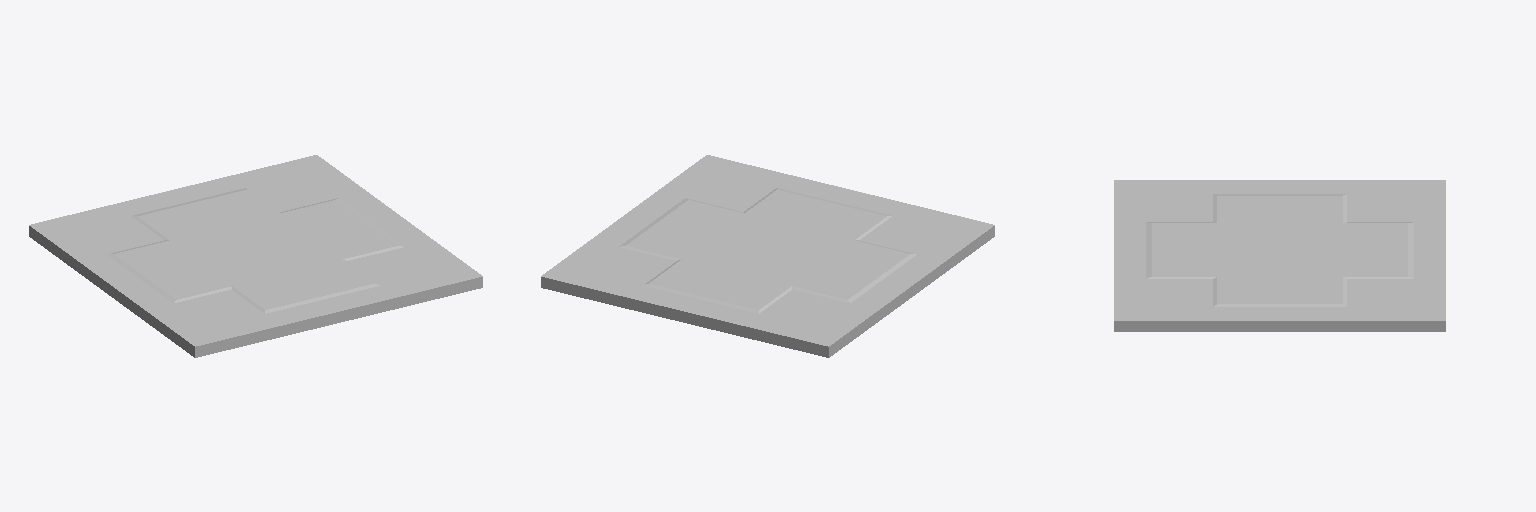
The model's file is Floor_Medbay.obj.
3 views of the same model, side by side, from view 1: azimuth 30°, elevation 25°; view 2: azimuth 150°, elevation 25°; view 3: azimuth 270°, elevation 25° (orthographic).
Parts seen in each view (by area): view 1: Floor_Medbay; view 2: Floor_Medbay; view 3: Floor_Medbay.
Boxes of the visible parts, x1,y1,x2,y2 form: Floor_Medbay: [29, 155, 482, 357]; Floor_Medbay: [541, 155, 994, 357]; Floor_Medbay: [1114, 180, 1445, 331].
Size of the model in its own units: 4 by 0.1606 by 4.